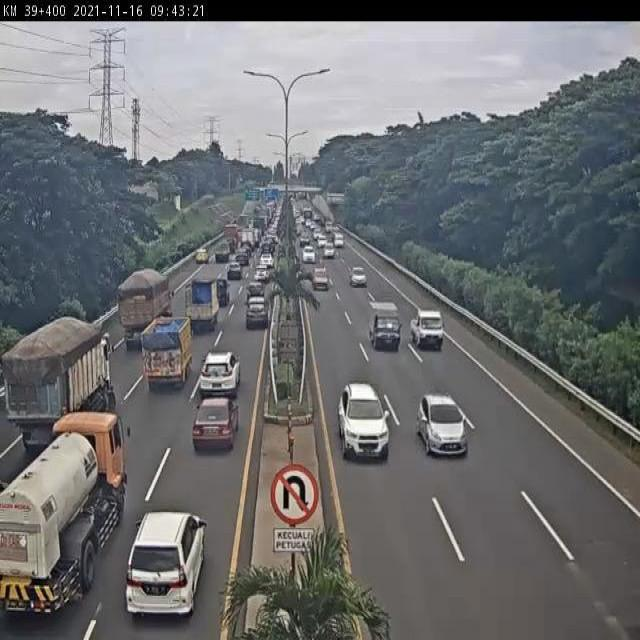car: (128, 508, 198, 637), (341, 371, 394, 452), (190, 392, 240, 463), (426, 398, 476, 446), (203, 337, 244, 395), (410, 306, 444, 351), (247, 296, 267, 333), (210, 278, 226, 314), (189, 244, 211, 267), (247, 278, 262, 306), (229, 252, 244, 279), (311, 260, 326, 283), (349, 265, 366, 284), (253, 269, 265, 292), (260, 253, 271, 271), (305, 242, 315, 258)
small truck: (371, 304, 402, 352), (213, 243, 226, 264)
truck-l-: (0, 313, 122, 460), (115, 266, 175, 358)
truck-m-: (0, 405, 134, 611), (142, 317, 187, 396), (183, 272, 220, 333)
